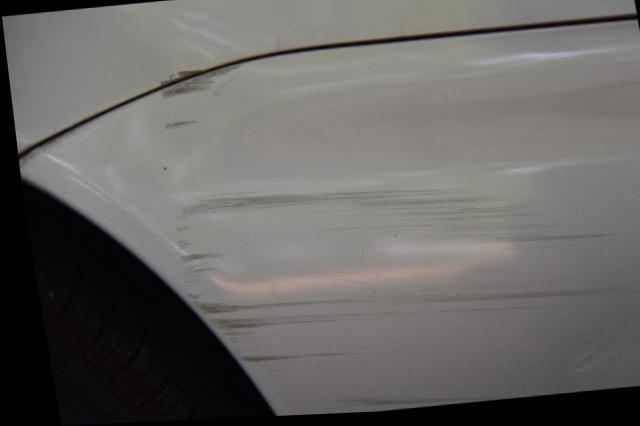scratch: (158, 65, 628, 413)
